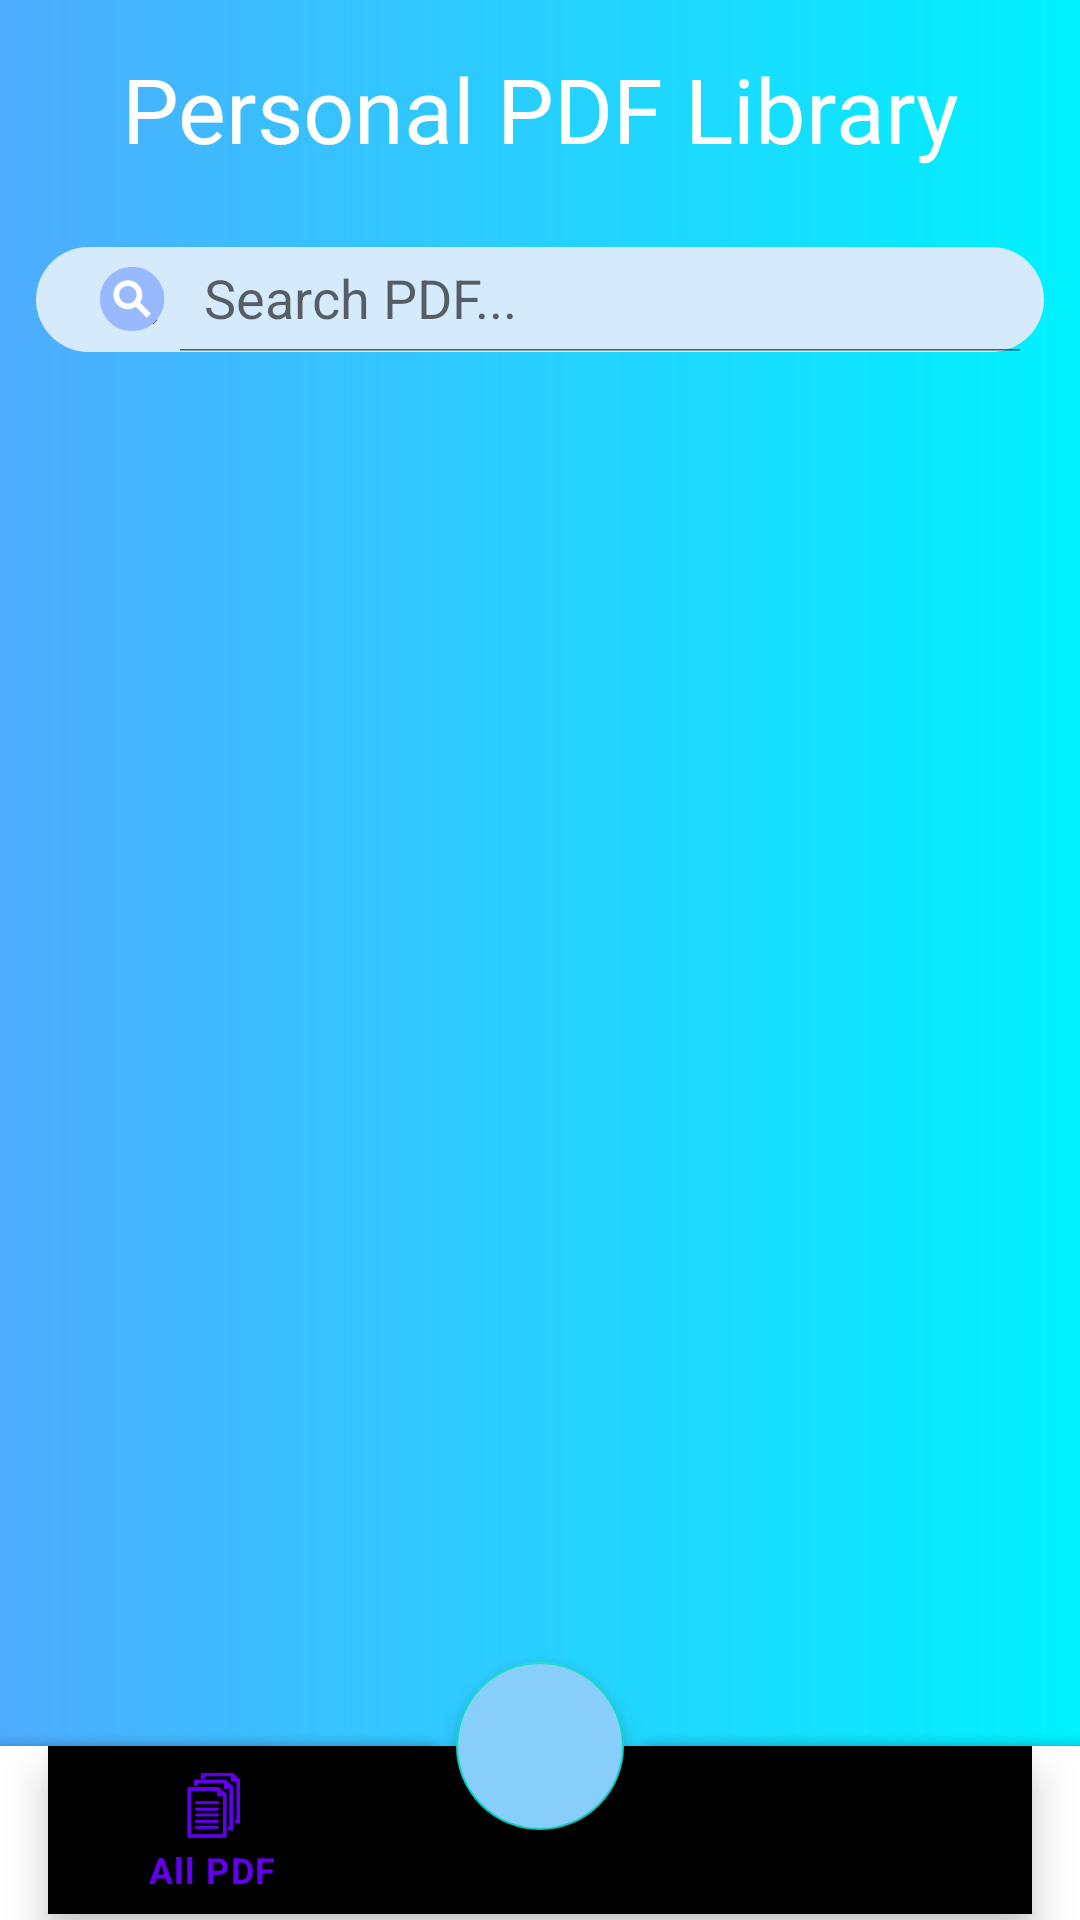

Named icons in this screenshot (1080×1920) and their bounding boxes, bbox=(x1, y1, x2, y2):
search: bbox=(100, 267, 164, 331)
